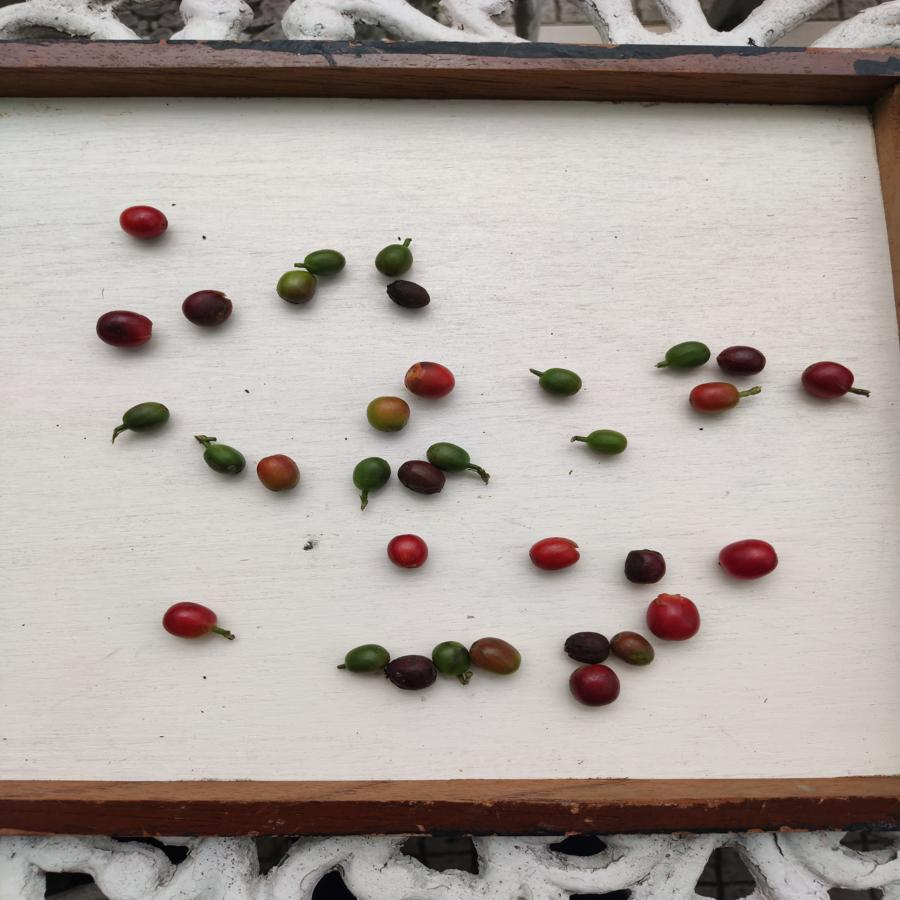Inmaduro: (661, 338, 714, 374), (337, 643, 389, 676), (534, 367, 587, 399), (199, 443, 247, 477), (427, 442, 474, 475), (122, 402, 172, 433), (351, 456, 391, 494), (432, 638, 472, 676), (305, 245, 348, 279), (374, 241, 413, 277), (585, 428, 630, 459)
Maduro: (645, 591, 703, 643), (714, 537, 778, 580), (163, 600, 220, 643), (528, 533, 581, 575), (402, 360, 456, 399), (802, 360, 855, 398), (117, 202, 170, 239), (690, 381, 741, 415), (387, 534, 430, 570)
Pinton: (468, 634, 524, 676), (257, 454, 303, 493), (613, 628, 656, 669), (366, 397, 414, 433), (277, 269, 318, 305)
Sobremaduro: (92, 308, 157, 350), (565, 663, 623, 707), (183, 289, 235, 329), (620, 547, 669, 586), (399, 459, 447, 498), (387, 654, 435, 692), (717, 342, 768, 377), (385, 279, 435, 310), (565, 631, 610, 665)
